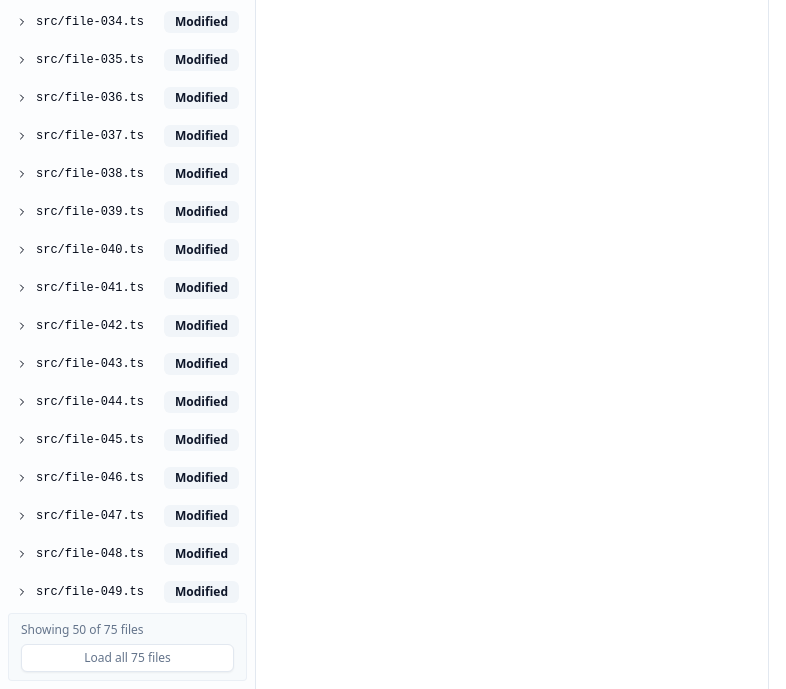
Test: DiffViewer › Large file count guardrails (>50 files) › reveals all files after clicking "Load all" button
(page scrolled)
# Click "Load all" button
Step 1. Click the button "Load all 75 files" → coordinates (128, 658), box x1=21 y1=644 x2=234 y2=672
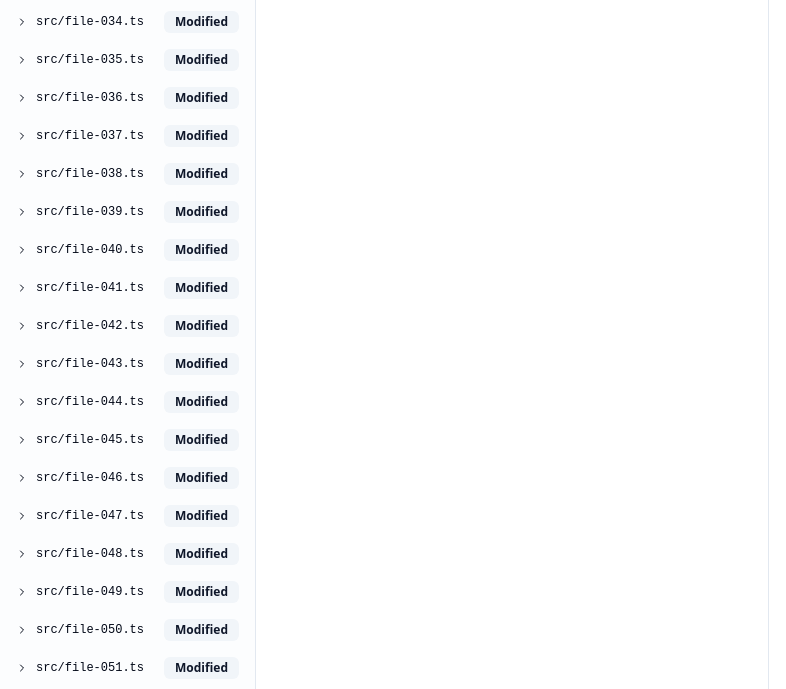
Check: the text "Showing 50 of 75 files" is gone
